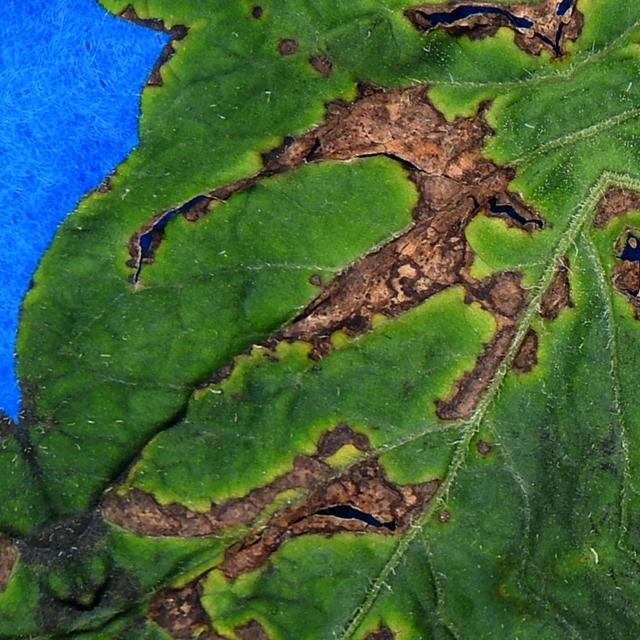Tomato leaf bacterial spot: (0, 0, 640, 640), (317, 193, 640, 617)
